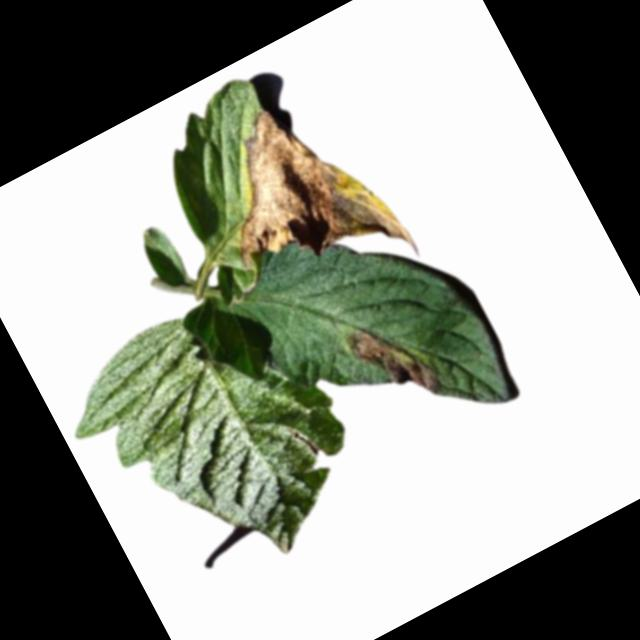Late_blight: (182, 72, 424, 329), (342, 303, 445, 417)
